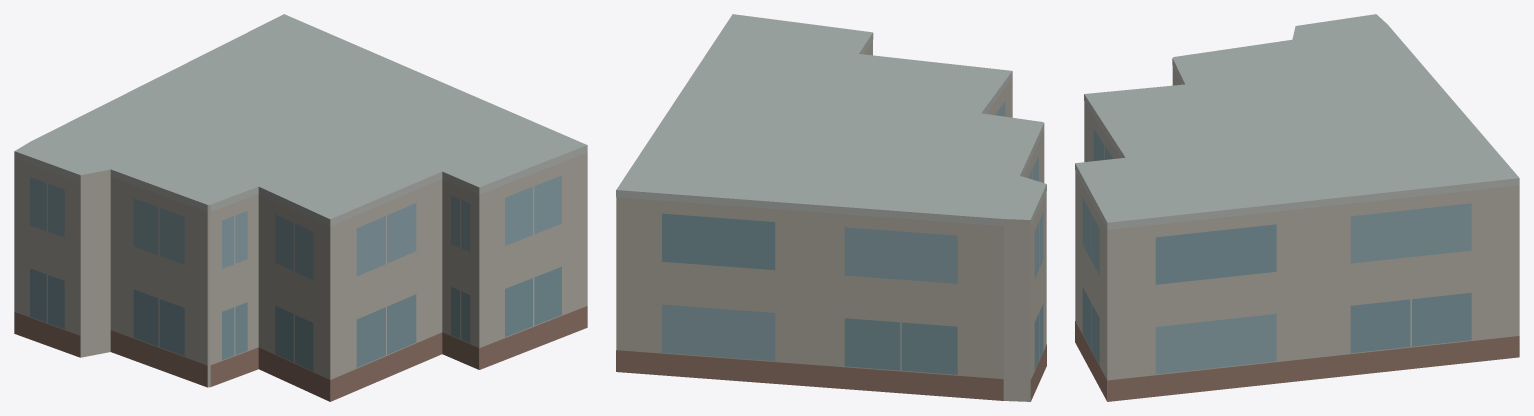
Rendered from survey-upis-32469575.glb.
The picture shows the model from 3 angles, left to right: view 1: azimuth 30°, elevation 25°; view 2: azimuth 150°, elevation 25°; view 3: azimuth 270°, elevation 25°; orthographic projection.
Parts seen in each view (by area): view 1: survey-upis-32469575.tmp; view 2: survey-upis-32469575.tmp; view 3: survey-upis-32469575.tmp.
Part boxes in pixels (box(x1,y1,x2,y2)): survey-upis-32469575.tmp: box(14, 14, 587, 401); survey-upis-32469575.tmp: box(616, 14, 1046, 401); survey-upis-32469575.tmp: box(1075, 14, 1519, 401).
Bounding box in the file's own units: 15.26 × 6.1 × 13.73.
